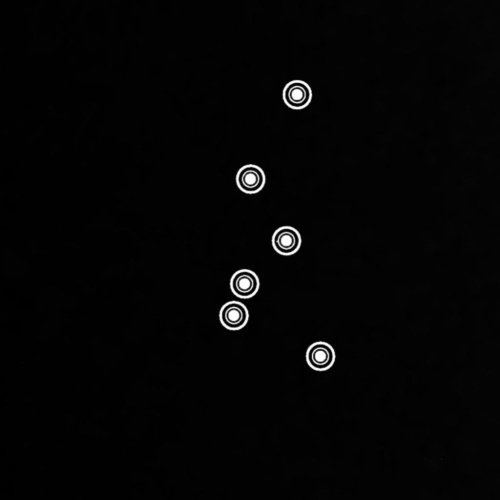cassiopeia: (214, 75, 341, 380)
